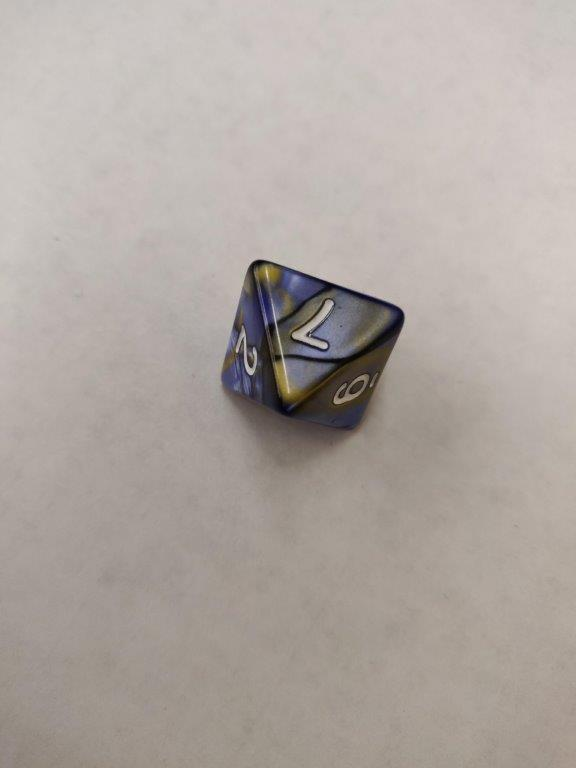d8-7: (223, 259, 405, 439)
